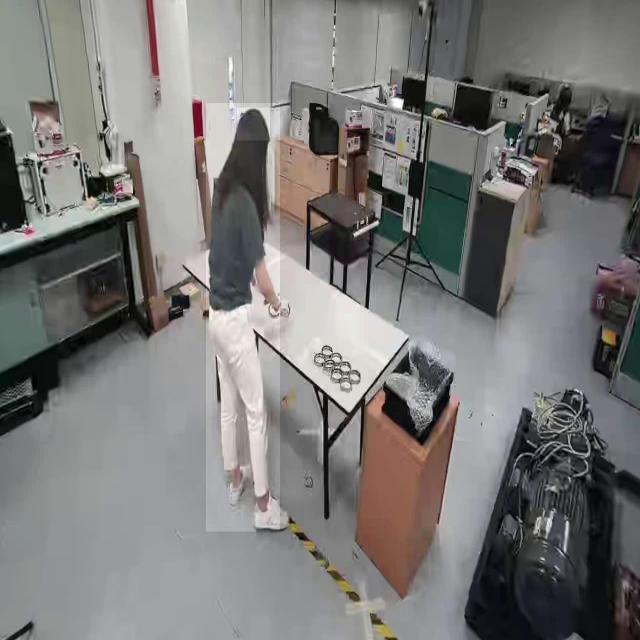hand_glove: (266, 287, 292, 325)
head_nohelmet: (237, 108, 271, 142)
person: (206, 103, 280, 533)
shoes: (223, 454, 254, 516), (250, 496, 293, 539)
